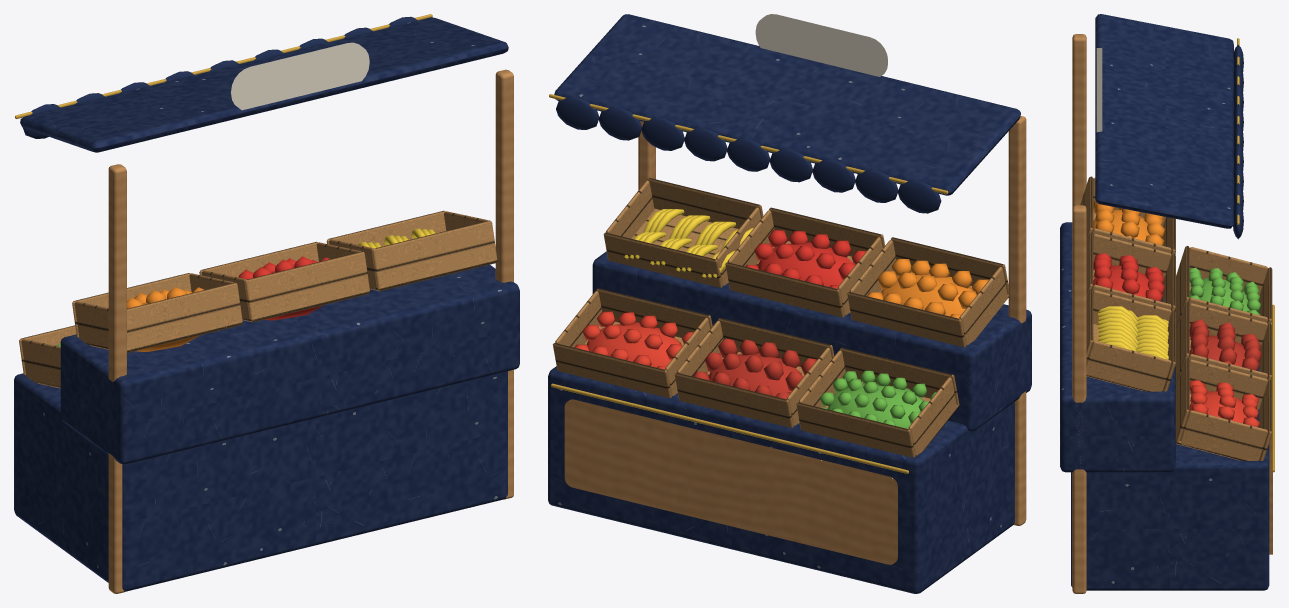
Rendered from produce_T2.fbx.
3 renders of one model, left to right at view 1: azimuth 30°, elevation 25°; view 2: azimuth 150°, elevation 25°; view 3: azimuth 270°, elevation 25°, orthographic. The views are drawn at different scales.
Visible parts, largest first — view 1: Body, Anim Fill 3, Anim Fill 2; view 2: Body, Anim Fill 2, Anim Fill 3, Anim Fill 0; view 3: Body, Anim Fill 2, Anim Fill 3, Anim Fill 0.
Boxes of the visible parts, x1,y1,x2,y2 form: Body: (14, 14, 519, 593); Anim Fill 3: (57, 287, 204, 351); Anim Fill 2: (238, 256, 330, 320); Body: (548, 14, 1031, 593); Anim Fill 2: (693, 230, 866, 399); Anim Fill 3: (820, 259, 988, 428); Anim Fill 0: (574, 311, 693, 369); Body: (1060, 14, 1274, 593); Anim Fill 2: (1093, 253, 1262, 370); Anim Fill 3: (1093, 198, 1260, 315); Anim Fill 0: (1189, 380, 1259, 427).
Bounding box in the file's own units: 1.54 × 1.7 × 0.7575.
